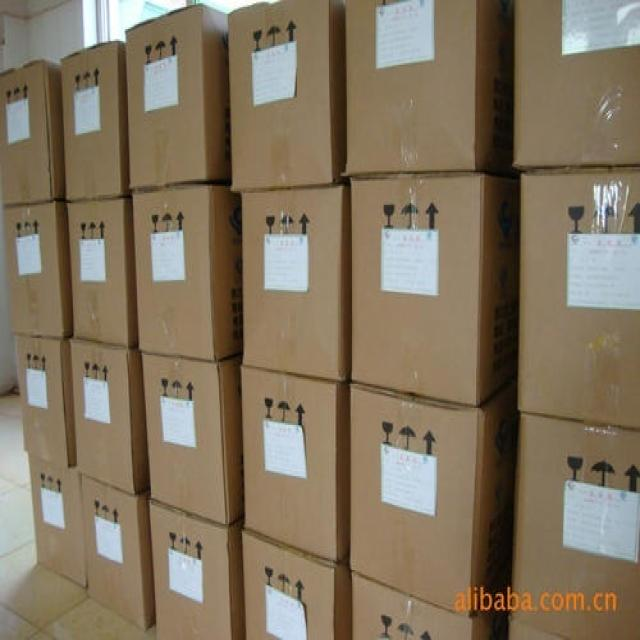box: (351, 373, 520, 618), (350, 170, 519, 406), (518, 164, 639, 428), (345, 1, 520, 176), (511, 413, 639, 638), (228, 0, 347, 189), (241, 186, 351, 381), (241, 367, 351, 562), (513, 0, 639, 167), (132, 179, 243, 360), (125, 4, 232, 189), (141, 351, 244, 525), (149, 498, 246, 638), (70, 337, 150, 495), (242, 528, 352, 638), (82, 473, 155, 631), (61, 41, 132, 201), (351, 570, 511, 638), (68, 199, 139, 347), (0, 56, 65, 205), (3, 199, 72, 337), (14, 335, 76, 468), (28, 453, 88, 588), (509, 619, 620, 638)
